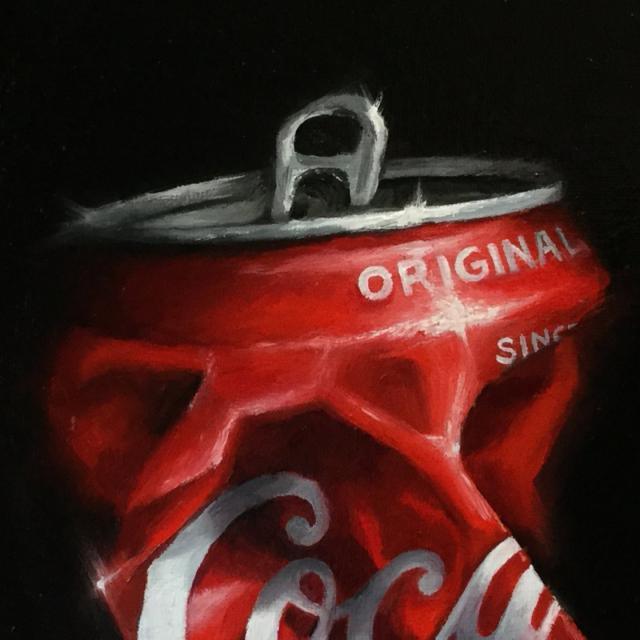can: (55, 76, 610, 640)
